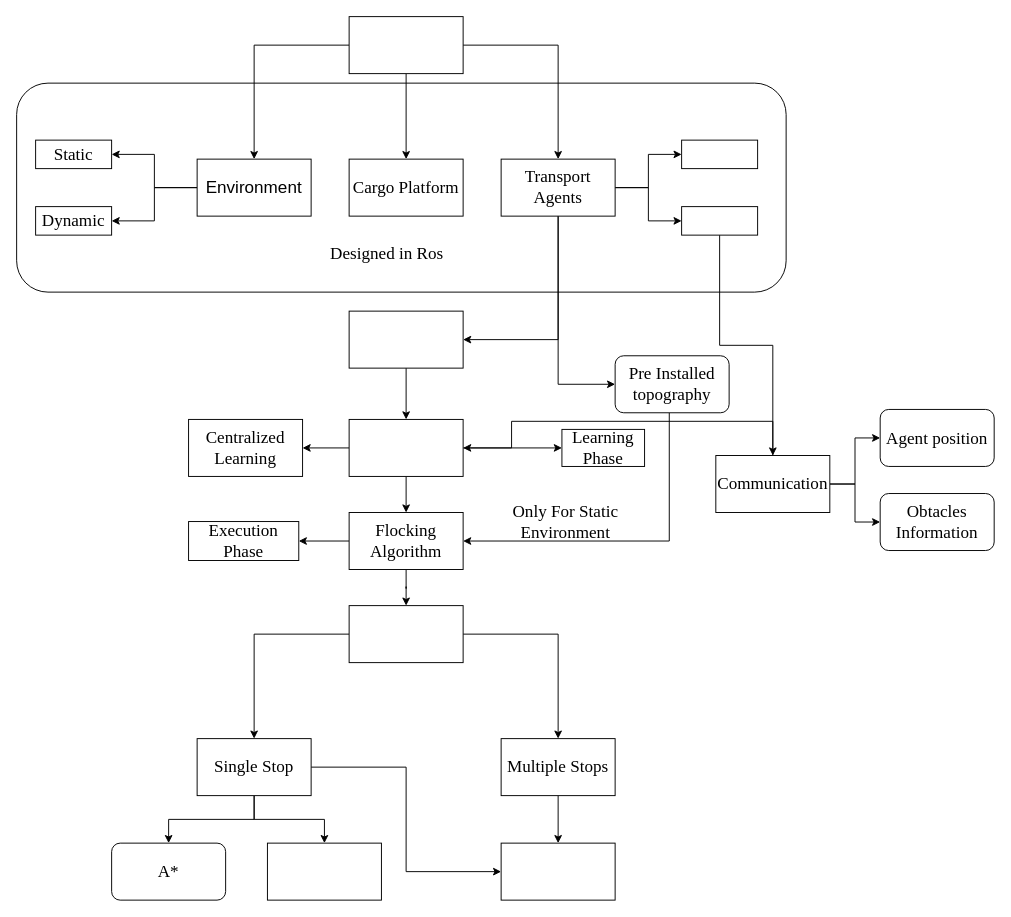
Image size: 1011x917. Some labels were removed from this diagram. The centre of each missing label's shape, as x and y in pixels:
"Commands" belongs at (x=405, y=339).
"Dijkstra" belongs at (x=323, y=871).
"Floyd-Warshall" belongs at (x=557, y=871).
"Intrastate Logistics" belongs at (x=405, y=45).
"Multi" belongs at (x=719, y=220).
"Shortest Path Algorithm" belongs at (x=405, y=634).
"Single" belongs at (x=719, y=154).
"SLAM" belongs at (x=405, y=447).
